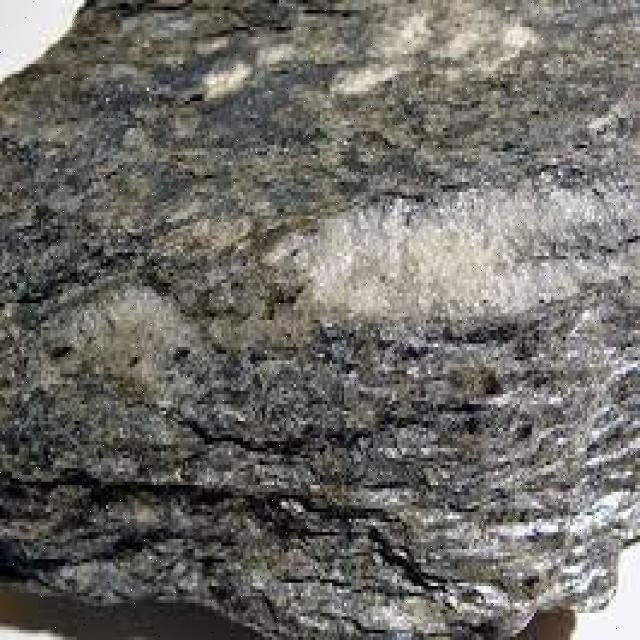Metamorphic: (2, 4, 638, 626)
